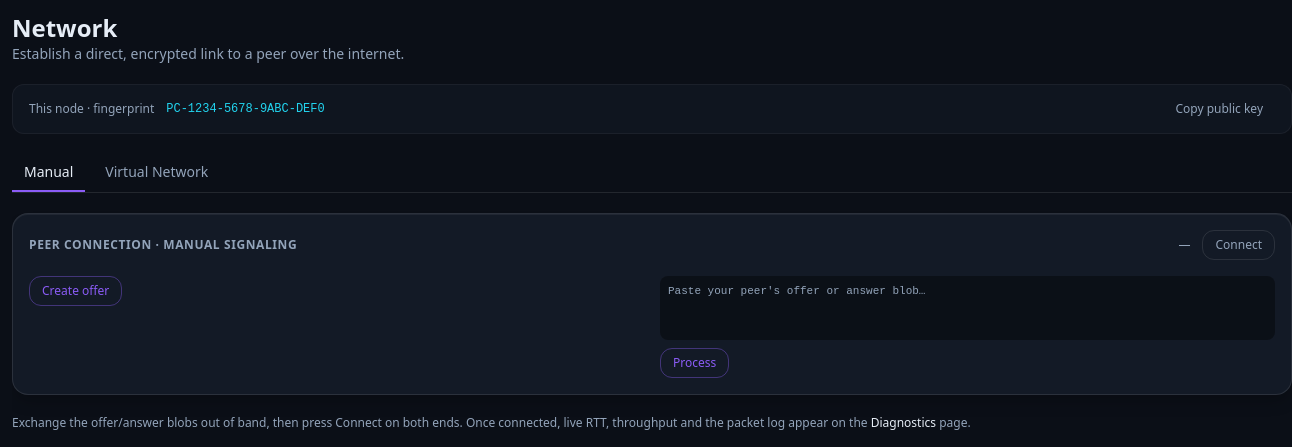
Network page › mode tabs › shows the manual panel by default and switches to the virtual-network panel
Check: the element with test id "peer-connection" is shown, box [12,213,1291,395]
What coordinates should you click on to do the following:
click the button with test id "network-mode-virtual"
I would click on:
 (157, 173)
Its box is [93,154,220,192].
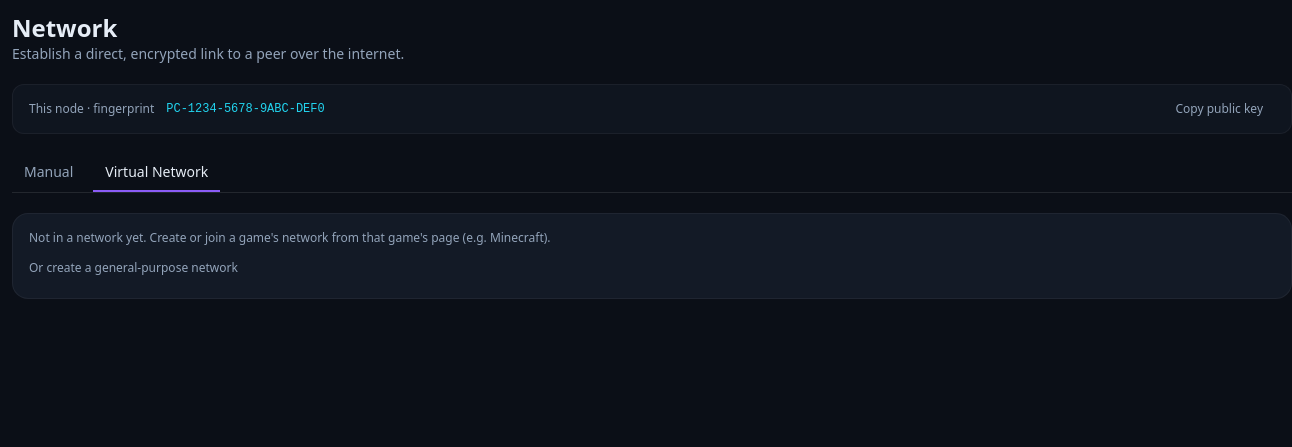
Check: the element with test id "peer-connection" is gone
Check: the element with test id "vn-collapsed-hint" is shown, box [12,213,1291,299]
